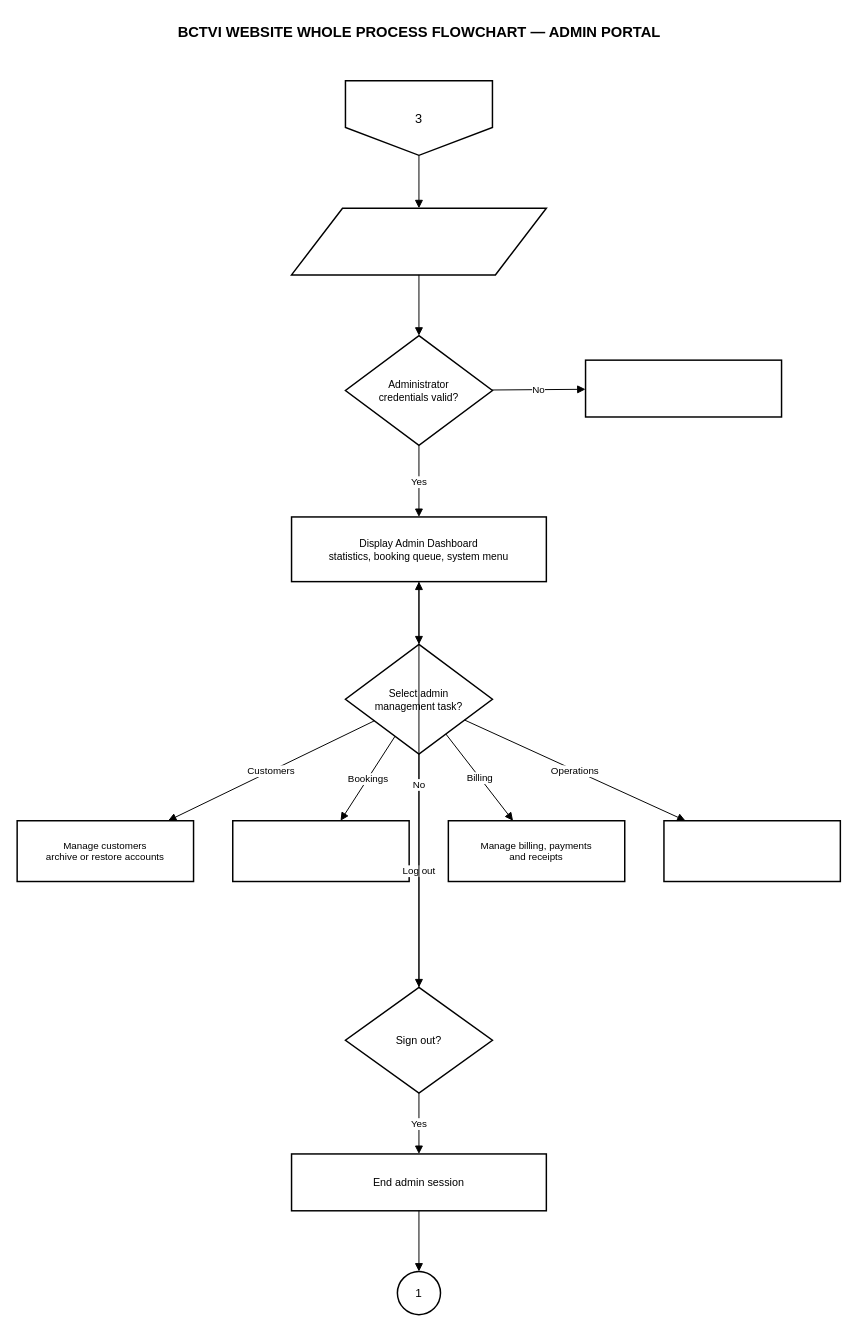
Image size: 858x1332. Some labels were removed from this diagram. Each missing label, with the centre of its shape:
"Display Admin Login Page input administrator credentials" belongs at (418,241).
"Display invalid credentials" belongs at (683,388).
"Manage appointments approve, update, schedule" belongs at (320,851).
"Manage services, maintenance, staff, reports and settings" belongs at (752,851).
